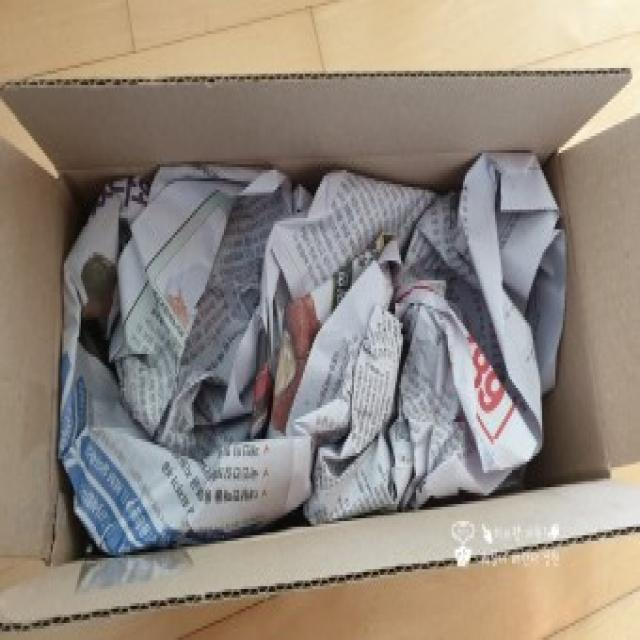Newspaper: (58, 147, 572, 557)
